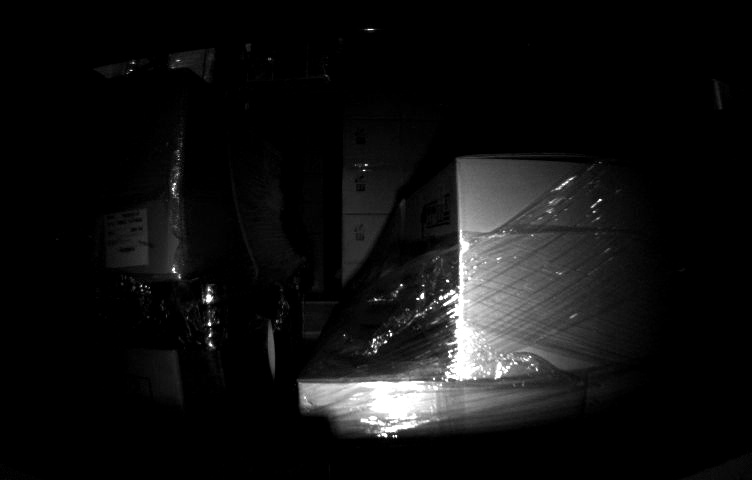True Barcode: (106, 209, 150, 267)
